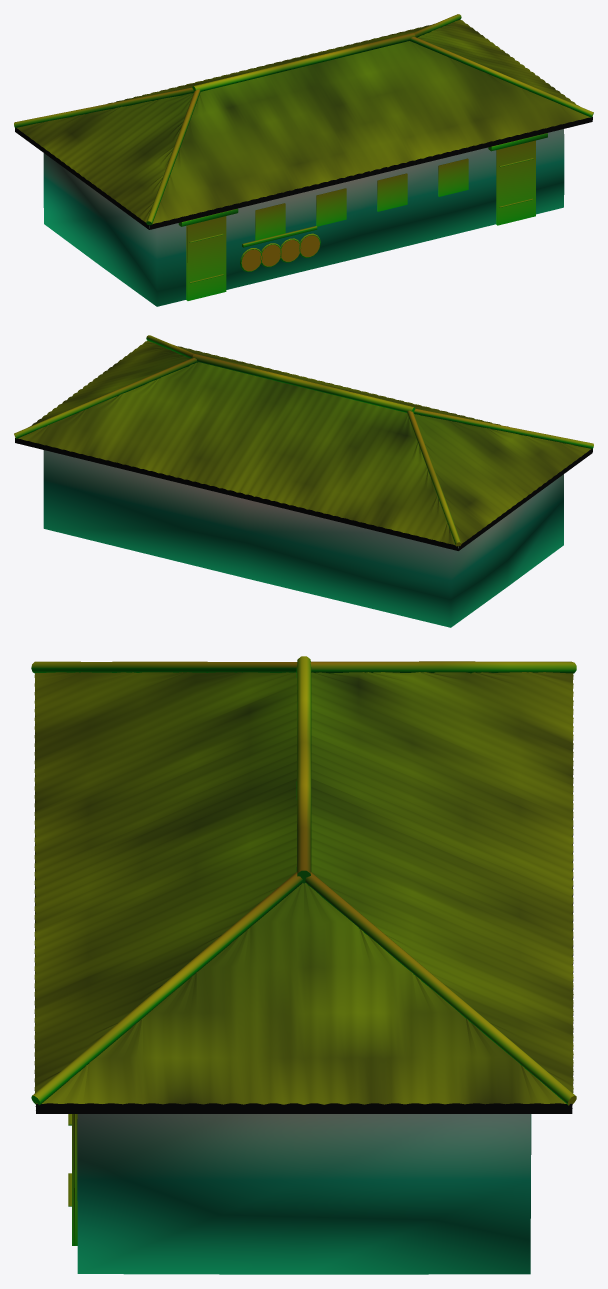
Rendered from stillguard_barracks.glb.
3 renders of one model, top to bottom at view 1: azimuth 30°, elevation 25°; view 2: azimuth 150°, elevation 25°; view 3: azimuth 270°, elevation 25°, orthographic. The views are drawn at different scales.
Visible parts, largest first — view 1: stillguard_barracks; view 2: stillguard_barracks; view 3: stillguard_barracks.
Part boxes in pixels (<box>): stillguard_barracks: <box>14,14,593,306</box>; stillguard_barracks: <box>14,335,593,627</box>; stillguard_barracks: <box>31,656,576,1274</box>.
Size of what is drawn, in the model's own units: 12.71 by 4.25 by 6.71.
